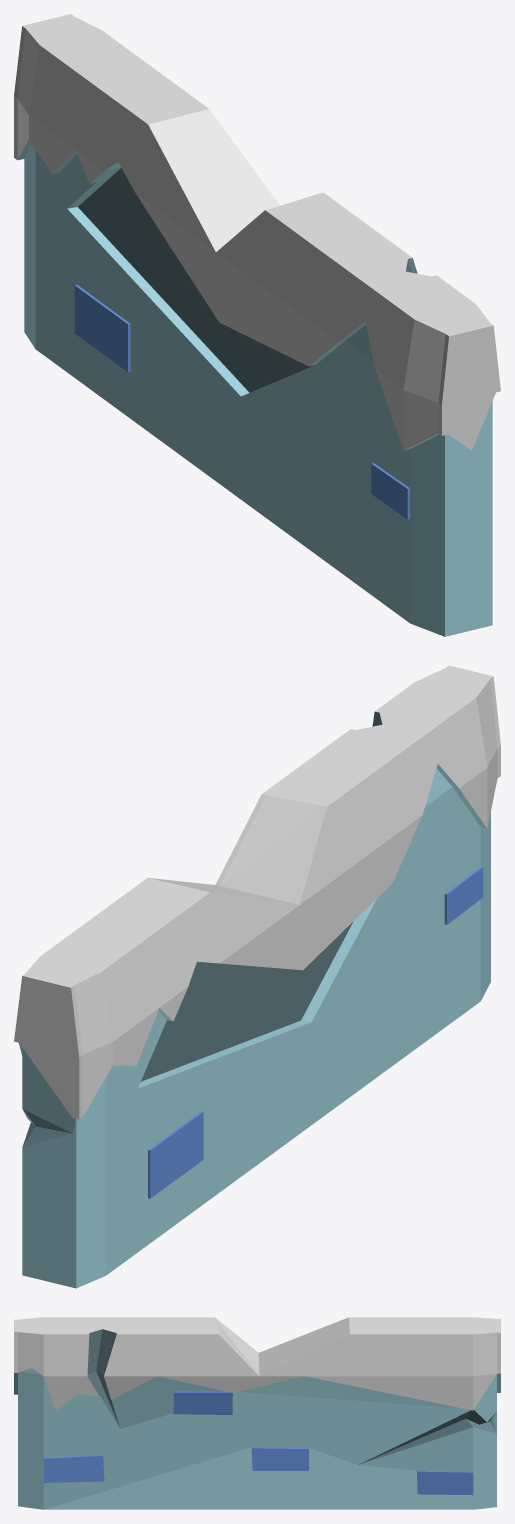
File: CastleWall_old_snow.fbx
The picture shows the model from 3 angles, top to bottom: view 1: azimuth 30°, elevation 25°; view 2: azimuth 150°, elevation 25°; view 3: azimuth 270°, elevation 25°; orthographic projection. The views are drawn at different scales.
Visible parts, largest first — view 1: Куб.001; view 2: Куб.001; view 3: Куб.001.
Boxes of the visible parts, <box> form: Куб.001: <box>14,14,500,636</box>; Куб.001: <box>14,665,500,1288</box>; Куб.001: <box>14,1317,500,1509</box>.
Size of the model in its own units: 116 by 400 by 1017.
